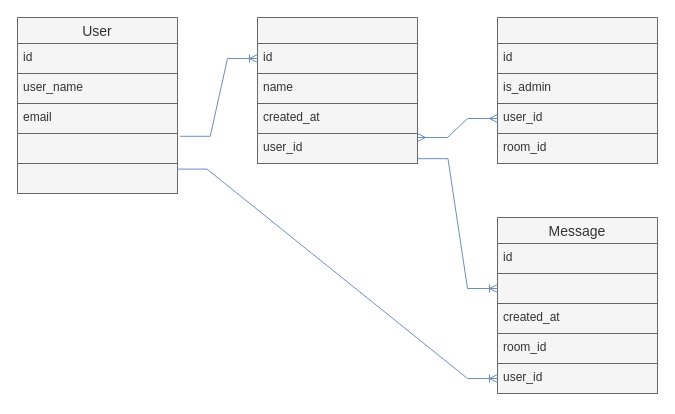
Some shapes in this 675 by 414 pixel diagram are drawn without their labels. The shapes that lost their labels are listed below. From the top down, each one's box as (x1, y1, x2, y2) in pixels, then its label:
(256, 16, 418, 164): Rooms
(496, 16, 658, 164): RoomMember
(16, 132, 178, 164): password
(16, 162, 178, 194): role STRING
(496, 272, 658, 304): message_text
